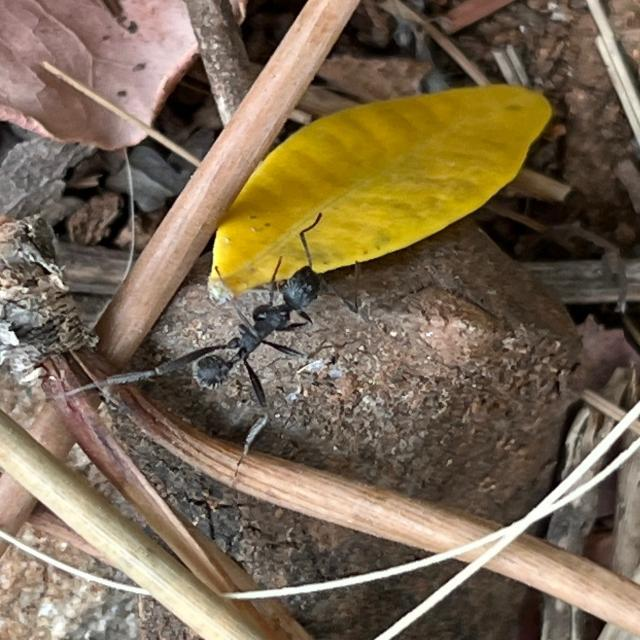Apheanogaster: (171, 237, 347, 416)
